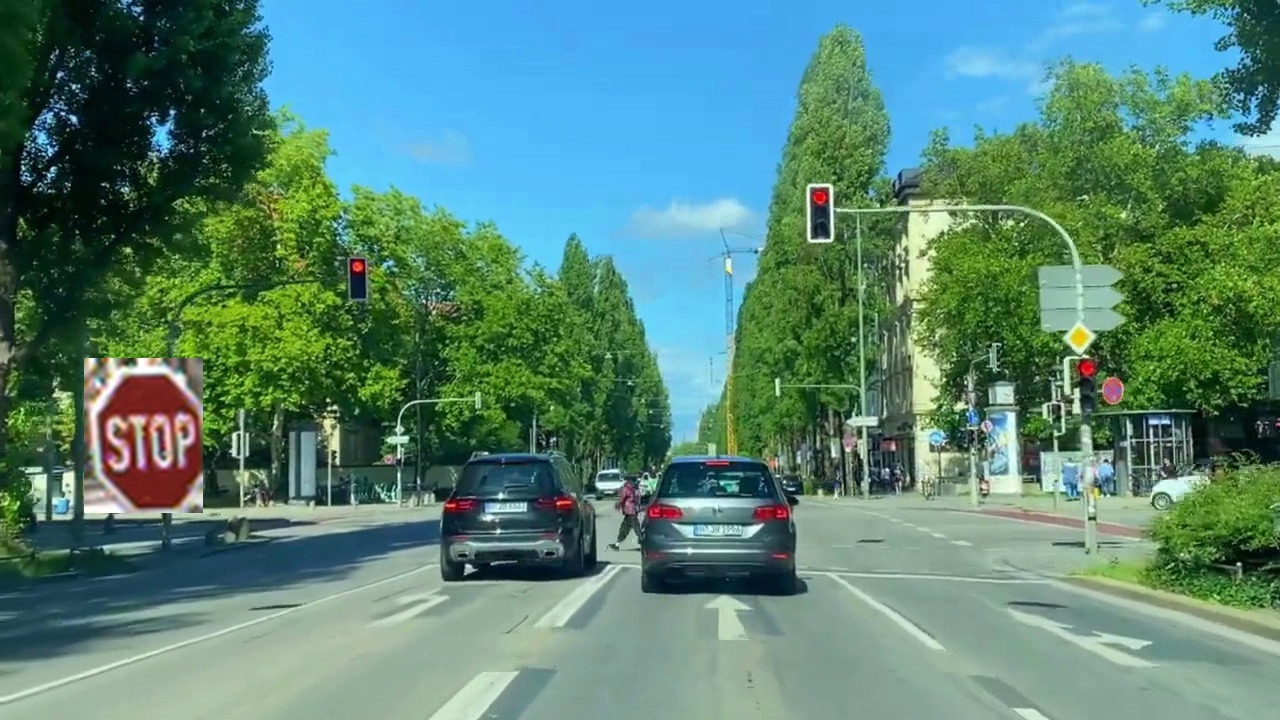Stop: (84, 358, 203, 513)
